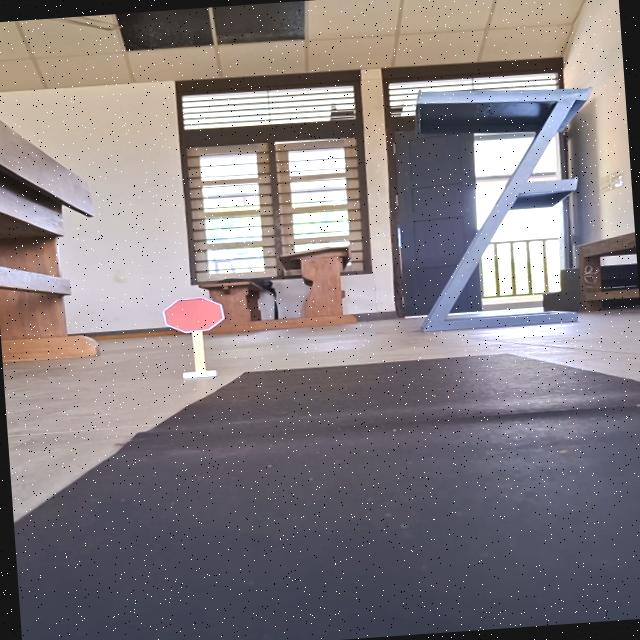Stop: (160, 294, 228, 334)
